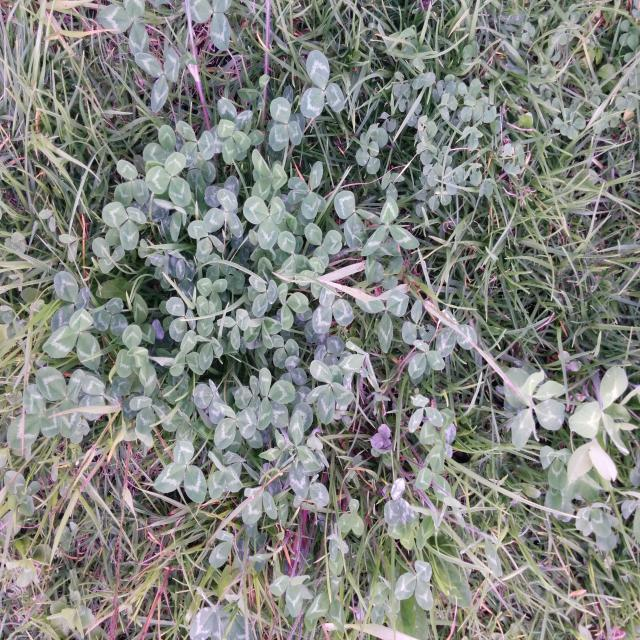Four Leaf Clover: (305, 360, 354, 424)
